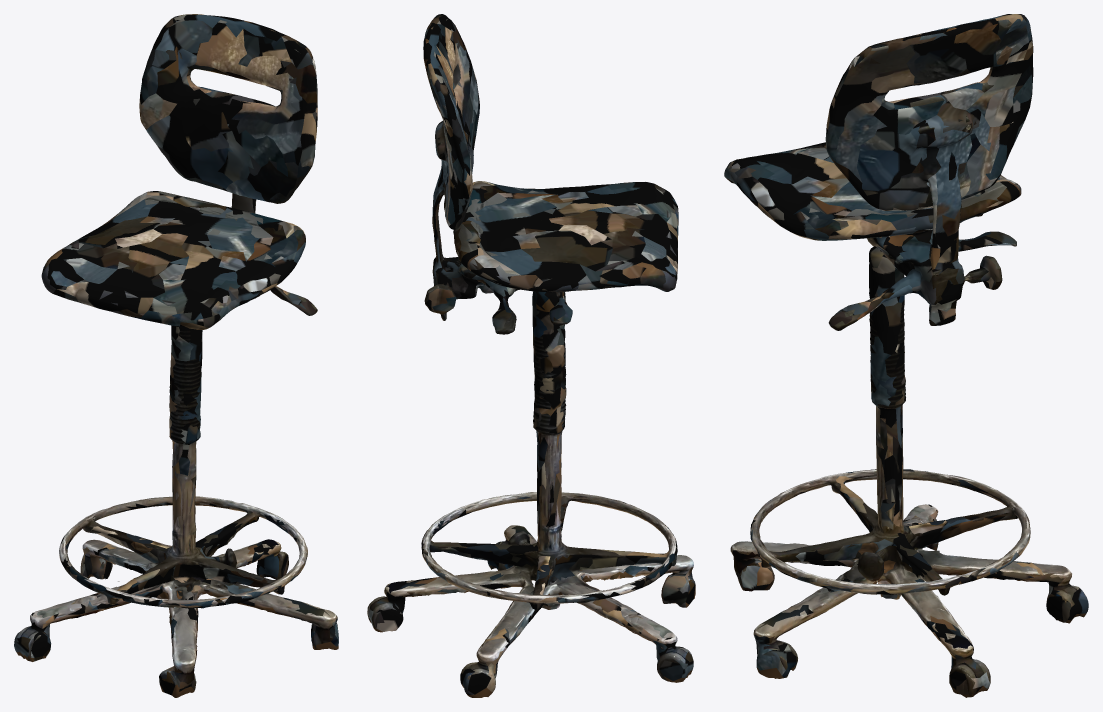
The model's file is mesh_lowpoly.obj.
The picture shows the model from 3 angles, left to right: view 1: azimuth 30°, elevation 25°; view 2: azimuth 150°, elevation 25°; view 3: azimuth 270°, elevation 25°; orthographic projection. The views are drawn at different scales.
Size of the model in its own units: 1.68 by 3.15 by 1.61.
